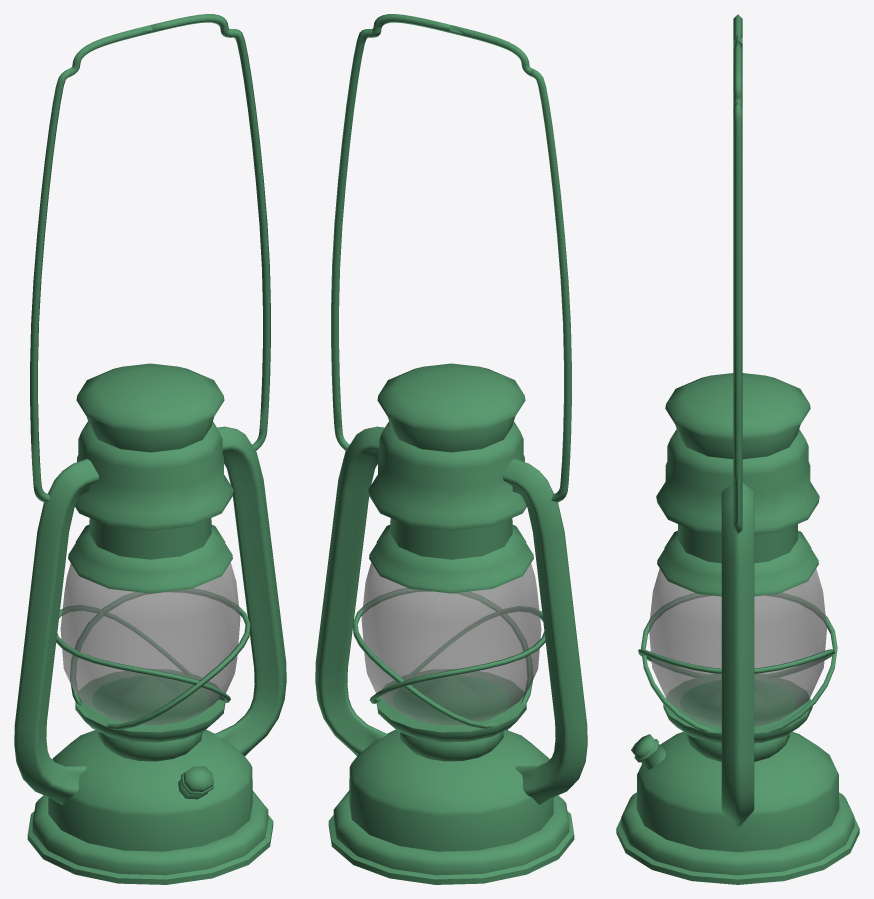
Rendered from gaslantern.FBX.
3 views of the same model, side by side, from view 1: azimuth 30°, elevation 25°; view 2: azimuth 150°, elevation 25°; view 3: azimuth 270°, elevation 25° (orthographic).
Visible parts, largest first — view 1: LanternMetal, LanternGlass, LanternHandle; view 2: LanternMetal, LanternGlass, LanternHandle; view 3: LanternMetal, LanternGlass, LanternHandle.
Boxes of the visible parts, x1,y1,x2,y2 form: LanternMetal: [14, 363, 286, 884]; LanternGlass: [60, 562, 240, 725]; LanternHandle: [30, 14, 270, 502]; LanternMetal: [315, 363, 587, 884]; LanternGlass: [361, 562, 541, 725]; LanternHandle: [331, 14, 571, 502]; LanternMetal: [616, 373, 859, 884]; LanternGlass: [649, 568, 826, 726]; LanternHandle: [733, 14, 742, 533].
Size of the model in its own units: 5.07 by 14.46 by 4.01.
